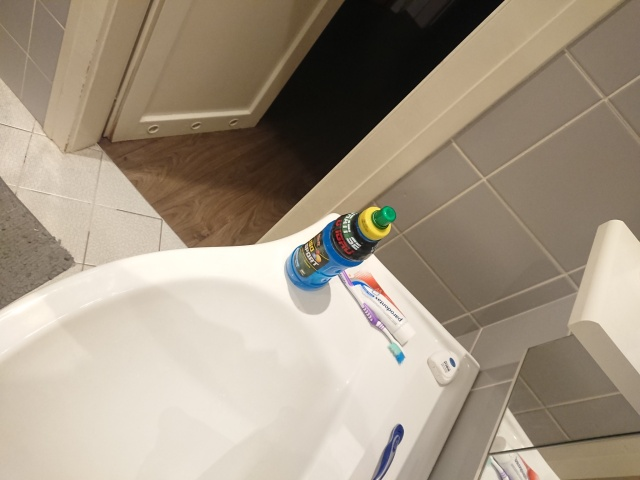Vindi Iso Sport Forest Strawberries 500mL: (283, 203, 396, 292)
